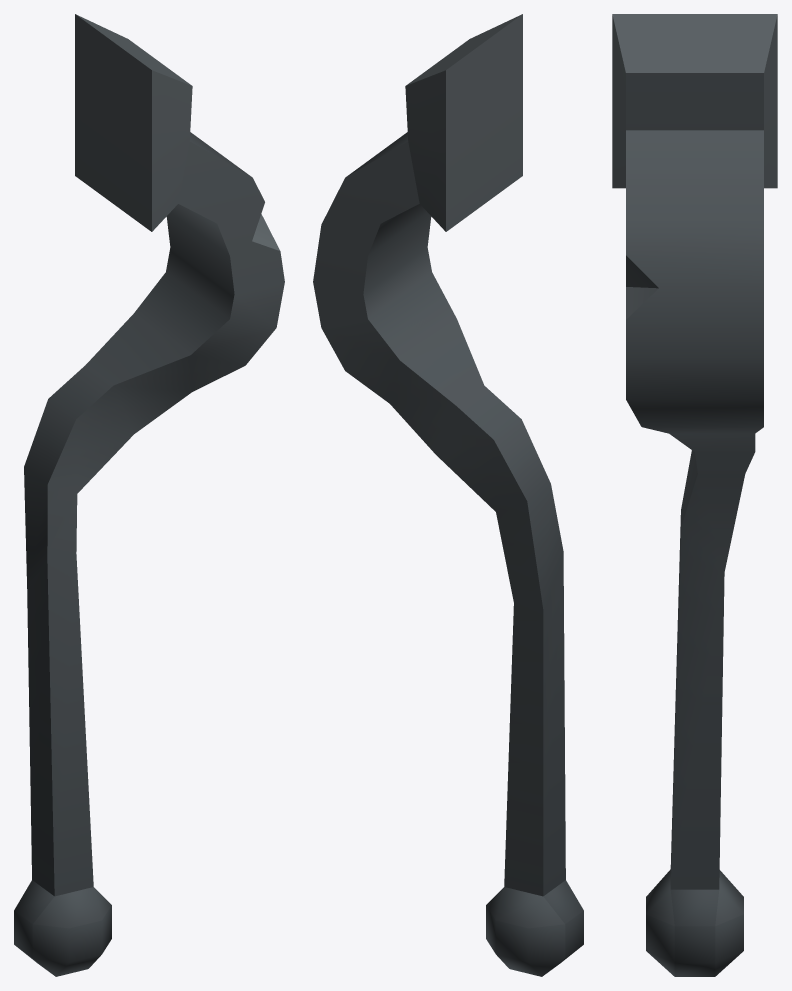
Rendered from tongs_part.obj.
3 views of the same model, side by side, from view 1: azimuth 30°, elevation 25°; view 2: azimuth 150°, elevation 25°; view 3: azimuth 270°, elevation 25° (orthographic). The views are drawn at different scales.
Visible parts, largest first — view 1: tongs_part; view 2: tongs_part; view 3: tongs_part.
Boxes of the visible parts, x1,y1,x2,y2 form: tongs_part: (14,14,284,976); tongs_part: (313,14,583,976); tongs_part: (612,14,777,976).
Bounding box in the file's own units: 0.3388 × 1.29 × 0.1964.
1 material, 1 textured.
